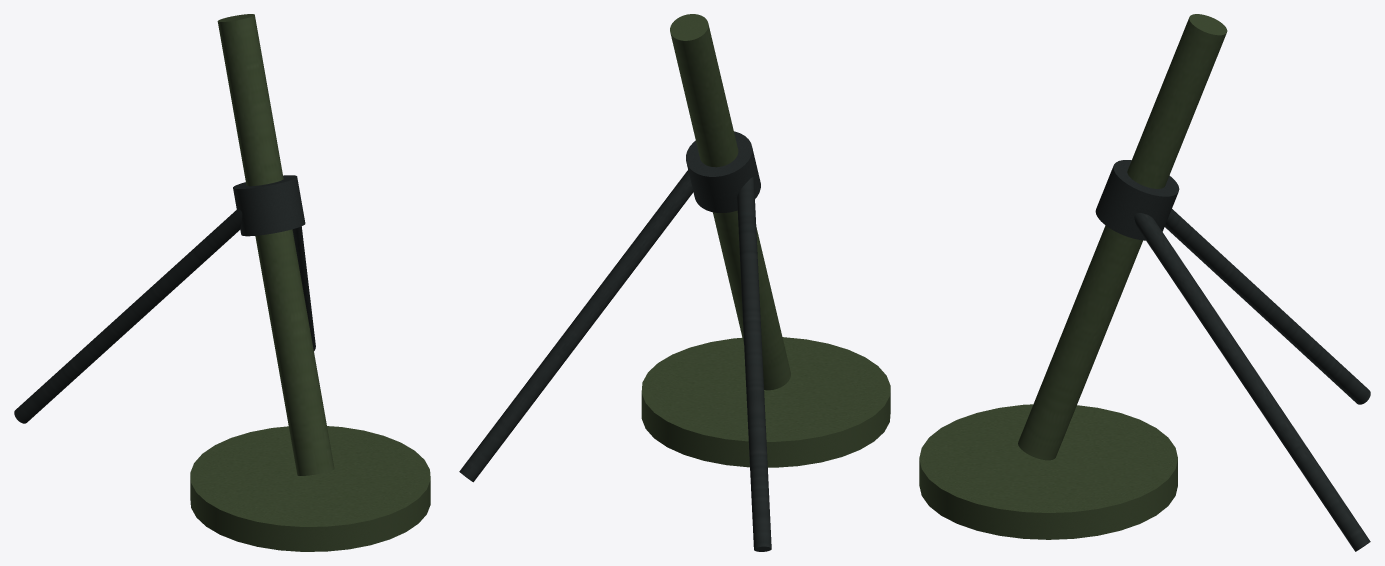
The picture shows the model from 3 angles, left to right: view 1: azimuth 30°, elevation 25°; view 2: azimuth 150°, elevation 25°; view 3: azimuth 270°, elevation 25°; orthographic projection. The views are drawn at different scales.
Visible parts, largest first — view 1: Hull_MVP olive paint, Hull_MVP exposed metal; view 2: Hull_MVP olive paint, Hull_MVP exposed metal; view 3: Hull_MVP olive paint, Hull_MVP exposed metal.
Part boxes in pixels (x1,y1,x2,y2): Hull_MVP olive paint: (190, 14, 430, 551); Hull_MVP exposed metal: (14, 175, 315, 423); Hull_MVP olive paint: (641, 14, 890, 467); Hull_MVP exposed metal: (459, 131, 771, 551); Hull_MVP olive paint: (919, 14, 1227, 539); Hull_MVP exposed metal: (1095, 160, 1370, 551).
Size of the model in its own units: 1.01 by 1.39 by 1.22.
2 materials, 2 textured.
